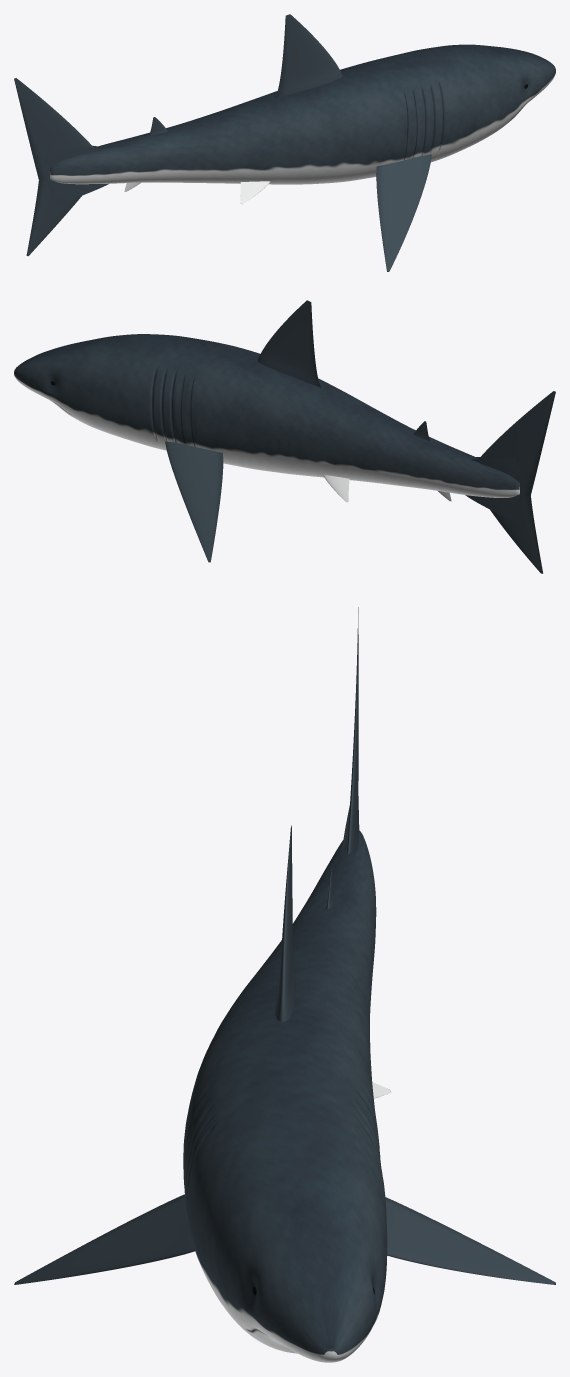
Rendered from great_white.glb.
3 views of the same model, one above another, from view 1: azimuth 30°, elevation 25°; view 2: azimuth 150°, elevation 25°; view 3: azimuth 270°, elevation 25° (orthographic). The views are drawn at different scales.
Visible parts, largest first — view 1: GreatWhite_Body, GreatWhite_Fins; view 2: GreatWhite_Body, GreatWhite_Fins; view 3: GreatWhite_Body, GreatWhite_Fins.
Boxes of the visible parts, x1,y1,x2,y2 form: GreatWhite_Body: (50, 44, 555, 184); GreatWhite_Fins: (14, 14, 431, 271); GreatWhite_Body: (14, 334, 519, 497); GreatWhite_Fins: (165, 300, 555, 573); GreatWhite_Body: (183, 830, 387, 1362); GreatWhite_Fins: (14, 607, 555, 1284).
Size of the model in its own units: 4.5 by 1.72 by 1.98.
Materials: 3 (1 with a texture image).
